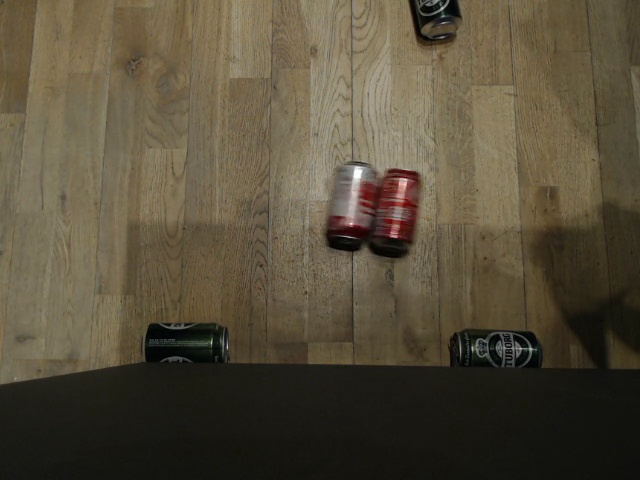beer: (447, 326, 542, 372), (138, 319, 229, 365), (405, 0, 461, 42)
cola: (324, 158, 380, 250), (366, 167, 420, 248)
